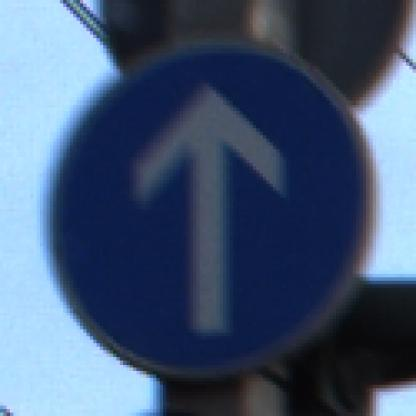AheadOnly: (38, 36, 384, 382)
